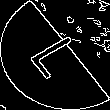L_NE: (21, 28, 89, 82)
